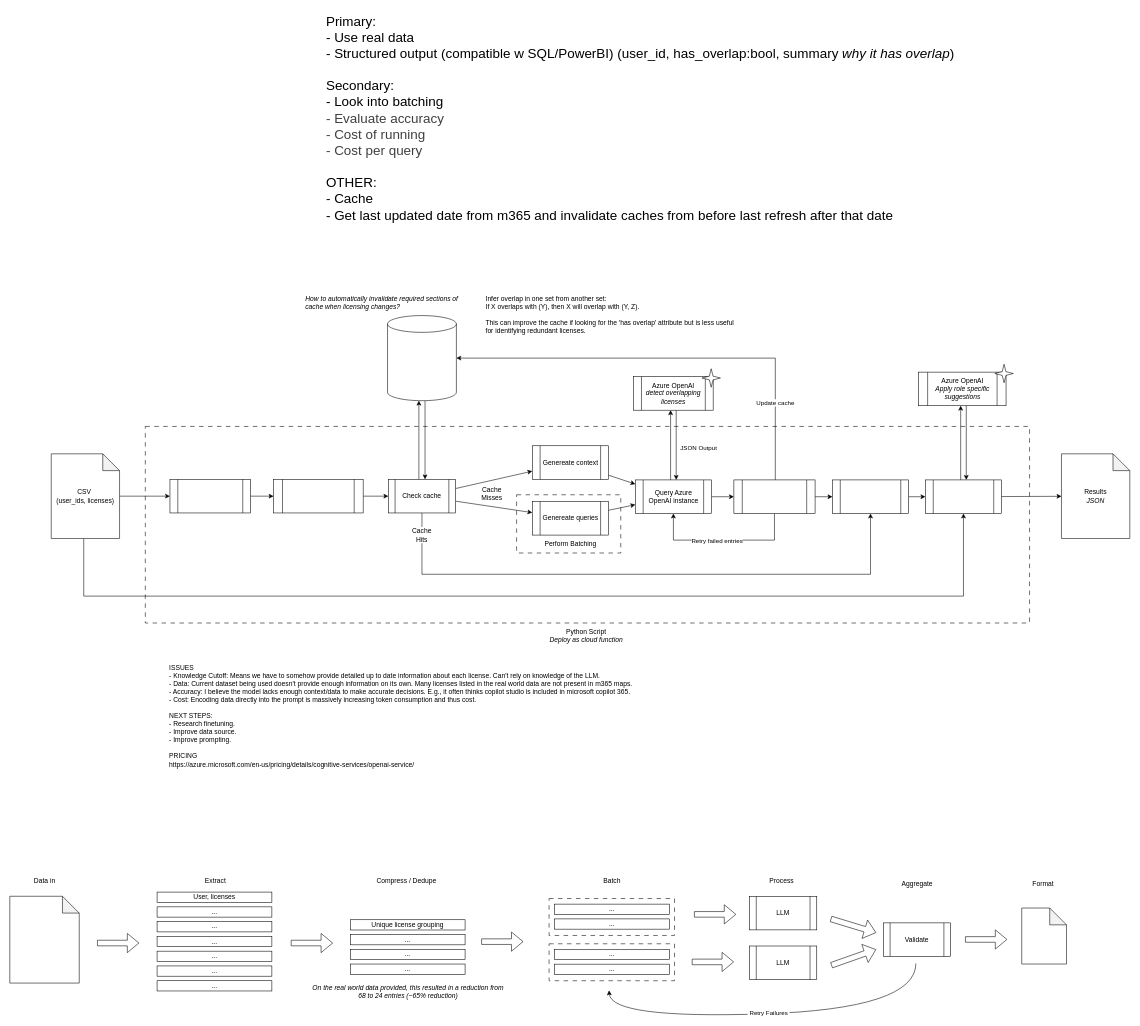
The diagram is 1140 pixels wide and 1026 high, and some of its shapes have lost their labels. Here are the shapes that lost their labels. From the top down, the box of each, then its label:
(387, 315, 456, 401): Cache key=set of licenses
(169, 479, 251, 513): Hash names (Anonymise Users)
(273, 479, 363, 513): Compress Keep only unique license groups and groups of size > 1
(733, 479, 815, 514): Unpack and validate responses
(832, 479, 909, 514): Concatenate with cache hits
(925, 479, 1002, 514): Join on user IDs
(9, 896, 79, 983): Users and applied licenses
(1021, 907, 1067, 964): Results
